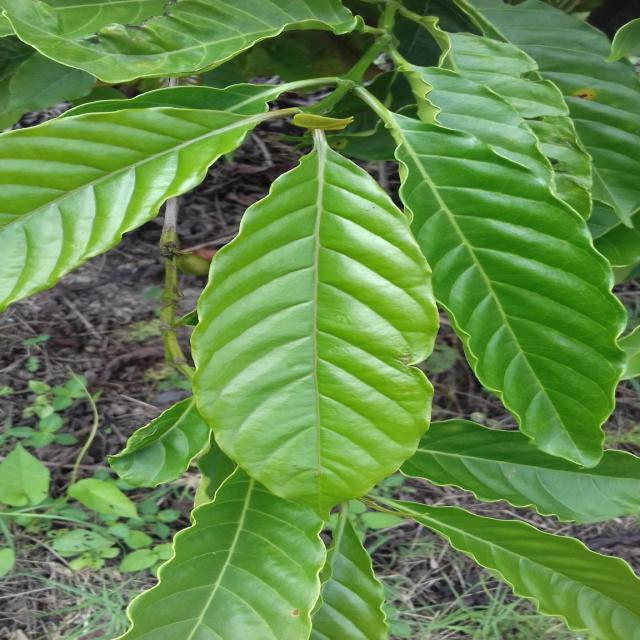Sanas: (181, 139, 441, 519)
